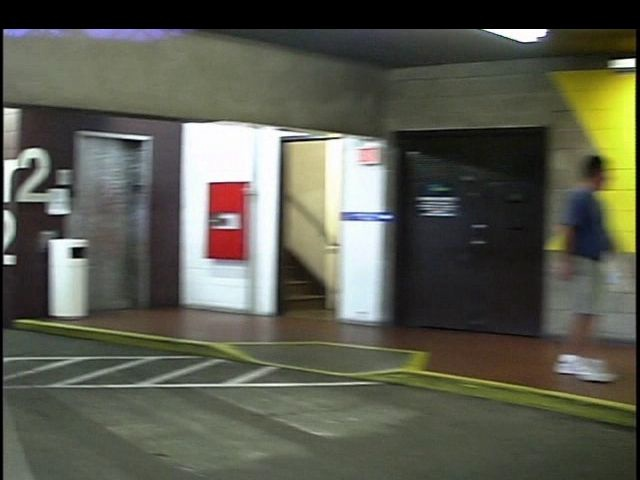person: (507, 149, 623, 388)
